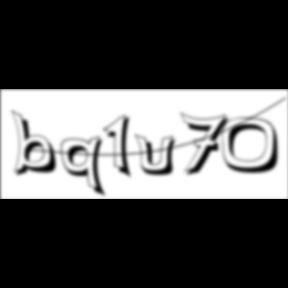1: (102, 114, 138, 182)
7: (180, 111, 235, 179)
O: (222, 117, 286, 176)
b: (12, 109, 64, 179)
q: (60, 135, 110, 200)
u: (135, 132, 183, 178)
